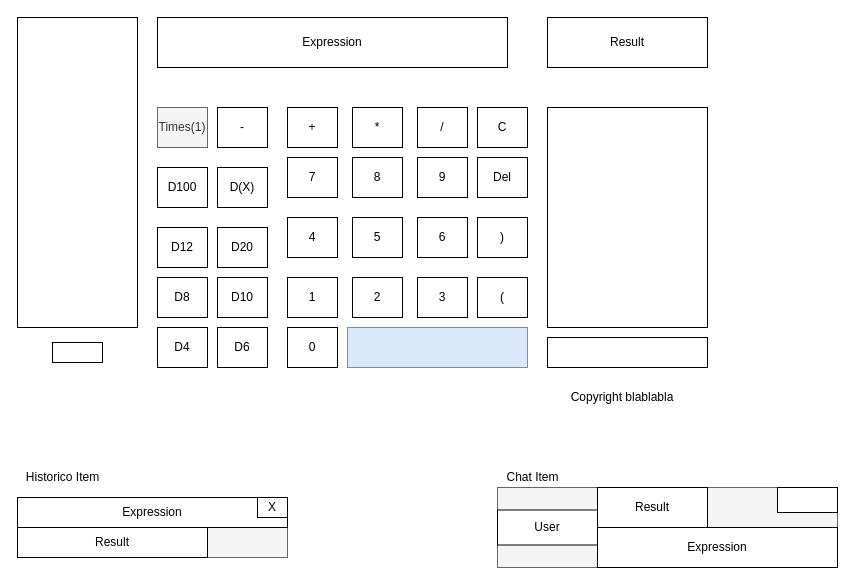
The diagram is 855 pixels wide and 585 high, and some of its shapes have lost their labels. Each missing label, with the centre of its shape:
Copy: the point at 807,499
GLOBAL DICE ROLLEDS: the point at 627,217
Help: the point at 77,352
Historico: the point at 77,172
Roll: the point at 437,347
User Name: the point at 627,352
